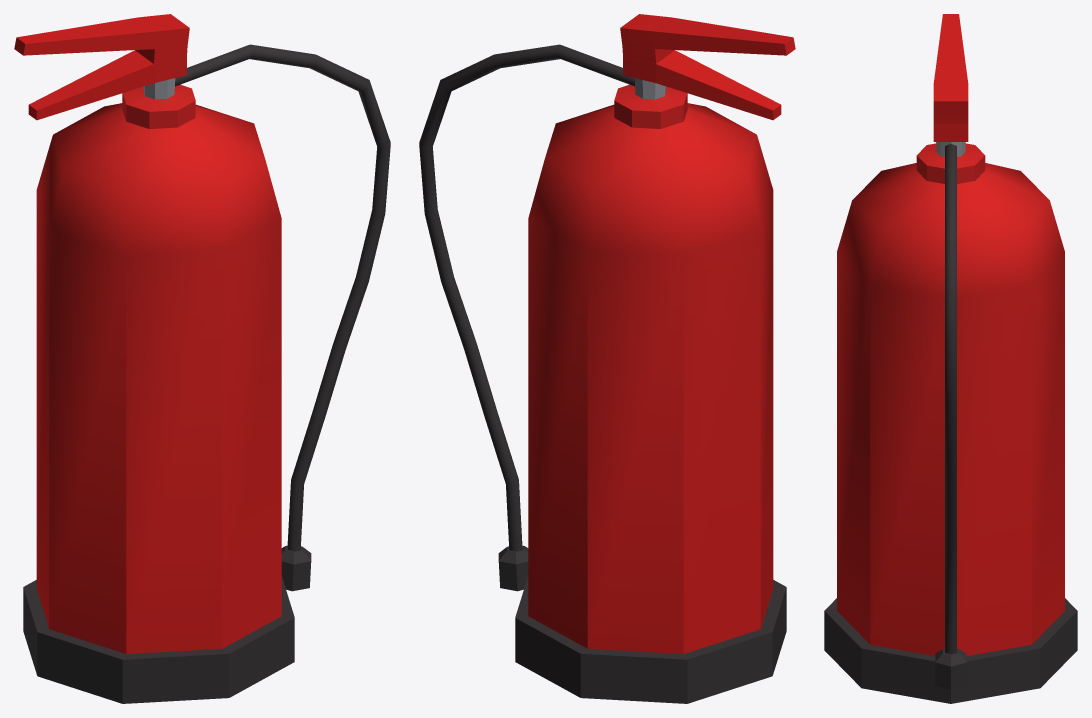
File: g_o_fireExtinguisher.fbx
The picture shows the model from 3 angles, left to right: view 1: azimuth 30°, elevation 25°; view 2: azimuth 150°, elevation 25°; view 3: azimuth 270°, elevation 25°; orthographic projection. The views are drawn at different scales.
Visible parts, largest first — view 1: fireextinguisher; view 2: fireextinguisher; view 3: fireextinguisher.
Boxes of the visible parts, <box> form: fireextinguisher: <box>14,14,390,703</box>; fireextinguisher: <box>419,14,795,703</box>; fireextinguisher: <box>824,14,1077,703</box>.
Bounding box in the file's own units: 0.3387 × 0.5566 × 0.2216.
